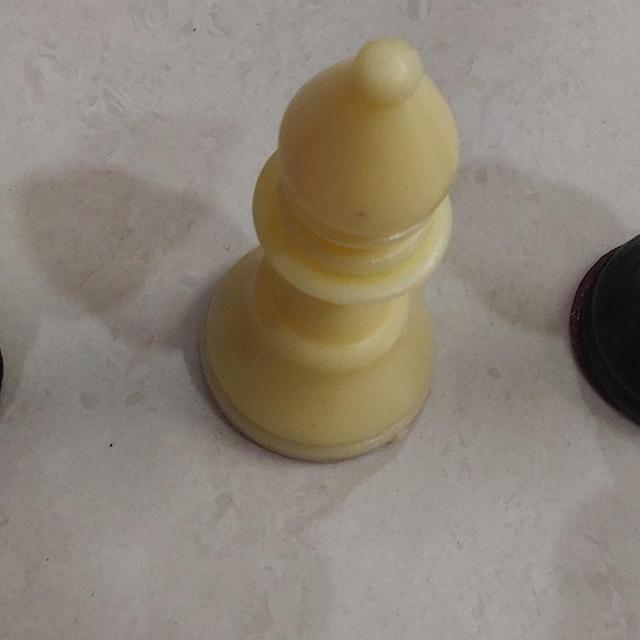white-bishop: (198, 38, 458, 464)
